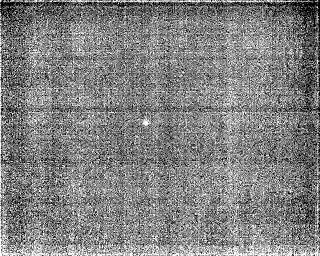BIRD: (141, 117, 151, 129)
